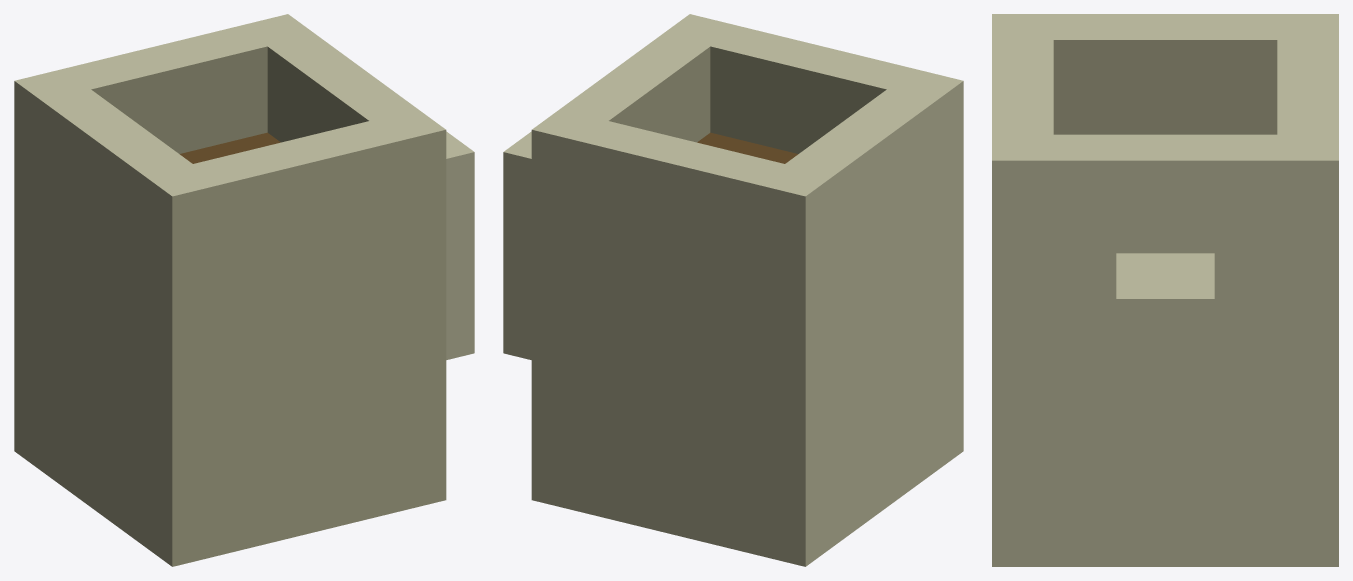
File: SO_CoffeeCup_02.fbx
The picture shows the model from 3 angles, left to right: view 1: azimuth 30°, elevation 25°; view 2: azimuth 150°, elevation 25°; view 3: azimuth 270°, elevation 25°; orthographic projection. The views are drawn at different scales.
Parts seen in each view (by area): view 1: SO_CoffeeCup_02; view 2: SO_CoffeeCup_02; view 3: SO_CoffeeCup_02.
Part boxes in pixels (<box>): SO_CoffeeCup_02: <box>14,14,474,566</box>; SO_CoffeeCup_02: <box>503,14,963,566</box>; SO_CoffeeCup_02: <box>992,14,1338,566</box>.
Size of the model in its own units: 0.2731 by 0.2694 by 0.2083.
